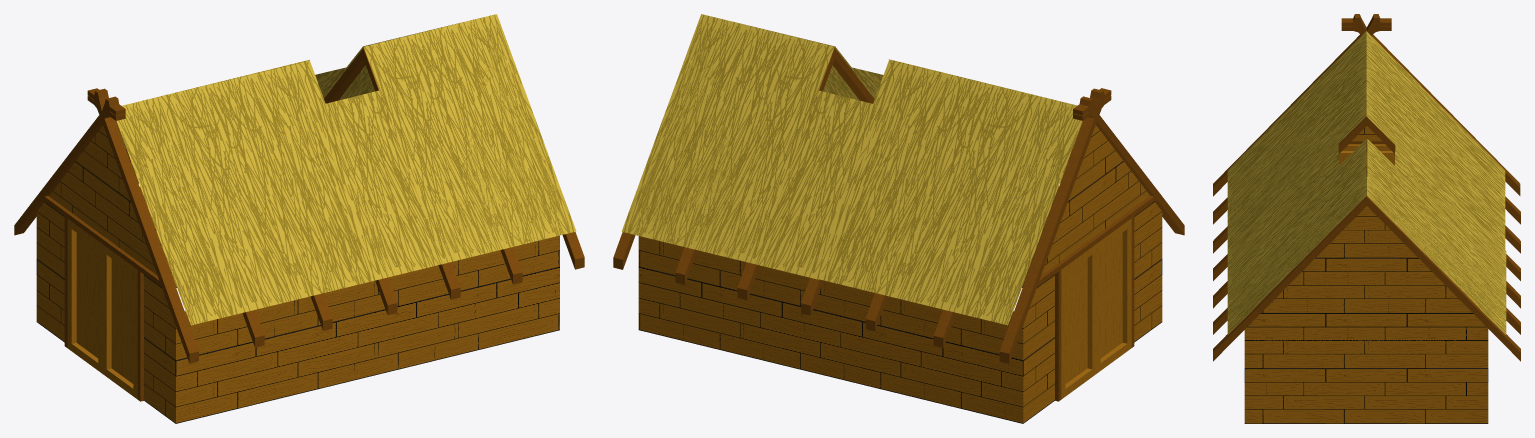
Rendered from Casa.FBX.
3 views of the same model, side by side, from view 1: azimuth 30°, elevation 25°; view 2: azimuth 150°, elevation 25°; view 3: azimuth 270°, elevation 25° (orthographic). The views are drawn at different scales.
Parts seen in each view (by area): view 1: ParedCasa, Tejado011, Tejado013, ParedCasa003, Tejado014, Tejado032, Tejado033, PuertaCasaComunal002, PuertaCasaComunal003, VigaDragonTejado002, MarcoPuertaSalonComunal001, VigaDragonTejado003 (+4 smaller); view 2: ParedCasa, Tejado012, Tejado016, ParedCasa002, Tejado015, Tejado017, Tejado018, PuertaCasaComunal003, PuertaCasaComunal002, VigaDragonTejado003, MarcoPuertaSalonComunal001, VigaDragonTejado002 (+4 smaller); view 3: ParedCasa, Tejado011, Tejado012, Tejado016, Tejado013, ParedCasa002, Tejado014, Tejado033, VigaTejado031, VigaTejado030, Tejado015, Tejado018 (+8 smaller).
Boxes of the visible parts, bbox=[...] form: ParedCasa: bbox=[36, 125, 559, 423]; Tejado011: bbox=[116, 59, 388, 325]; Tejado013: bbox=[363, 14, 576, 263]; ParedCasa003: bbox=[176, 236, 559, 414]; Tejado014: bbox=[326, 90, 442, 276]; Tejado032: bbox=[444, 21, 573, 262]; Tejado033: bbox=[191, 60, 378, 324]; PuertaCasaComunal002: bbox=[102, 244, 137, 399]; PuertaCasaComunal003: bbox=[67, 219, 102, 373]; VigaDragonTejado002: bbox=[87, 88, 198, 363]; MarcoPuertaSalonComunal001: bbox=[42, 196, 161, 401]; VigaDragonTejado003: bbox=[14, 96, 125, 235]; ParedCasa: bbox=[638, 125, 1162, 423]; Tejado012: bbox=[819, 59, 1082, 325]; Tejado016: bbox=[621, 14, 834, 263]; ParedCasa002: bbox=[638, 236, 1023, 423]; Tejado015: bbox=[755, 90, 872, 276]; Tejado017: bbox=[623, 15, 754, 263]; Tejado018: bbox=[756, 99, 881, 279]; PuertaCasaComunal003: bbox=[1061, 244, 1096, 399]; PuertaCasaComunal002: bbox=[1096, 218, 1131, 373]; VigaDragonTejado003: bbox=[999, 88, 1111, 363]; MarcoPuertaSalonComunal001: bbox=[1037, 195, 1156, 401]; VigaDragonTejado002: bbox=[1073, 96, 1184, 235]; ParedCasa: bbox=[1244, 126, 1488, 423]; Tejado011: bbox=[1227, 31, 1366, 254]; Tejado012: bbox=[1366, 31, 1505, 249]; Tejado016: bbox=[1367, 139, 1506, 334]; Tejado013: bbox=[1227, 139, 1366, 334]; ParedCasa002: bbox=[1244, 209, 1484, 423]; Tejado014: bbox=[1227, 144, 1338, 277]; Tejado033: bbox=[1227, 118, 1362, 252]; VigaTejado031: bbox=[1367, 196, 1520, 361]; VigaTejado030: bbox=[1213, 196, 1366, 361]; Tejado015: bbox=[1395, 144, 1506, 277]; Tejado018: bbox=[1395, 140, 1506, 275].
Bounding box in the file's own units: 820 × 552 × 631.
